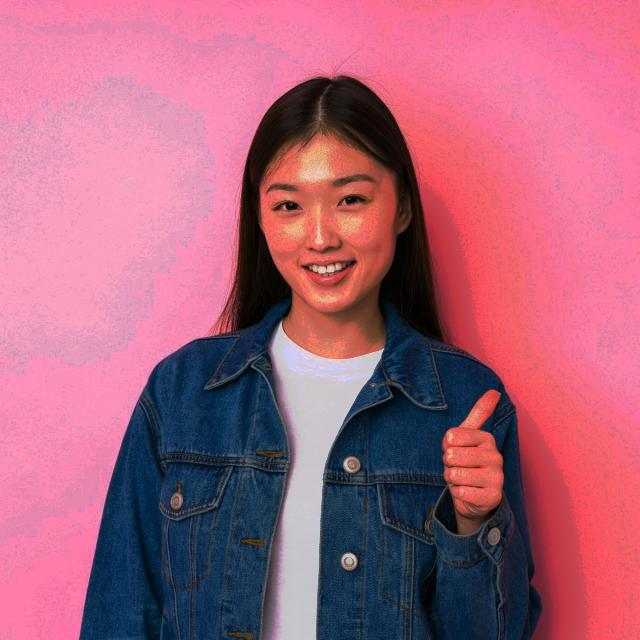other_gesture: (438, 386, 509, 520)
